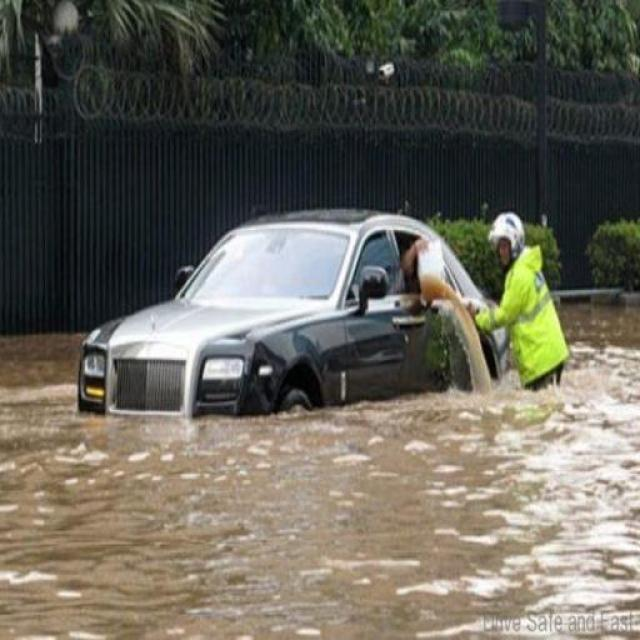rescuer: (462, 198, 618, 436)
